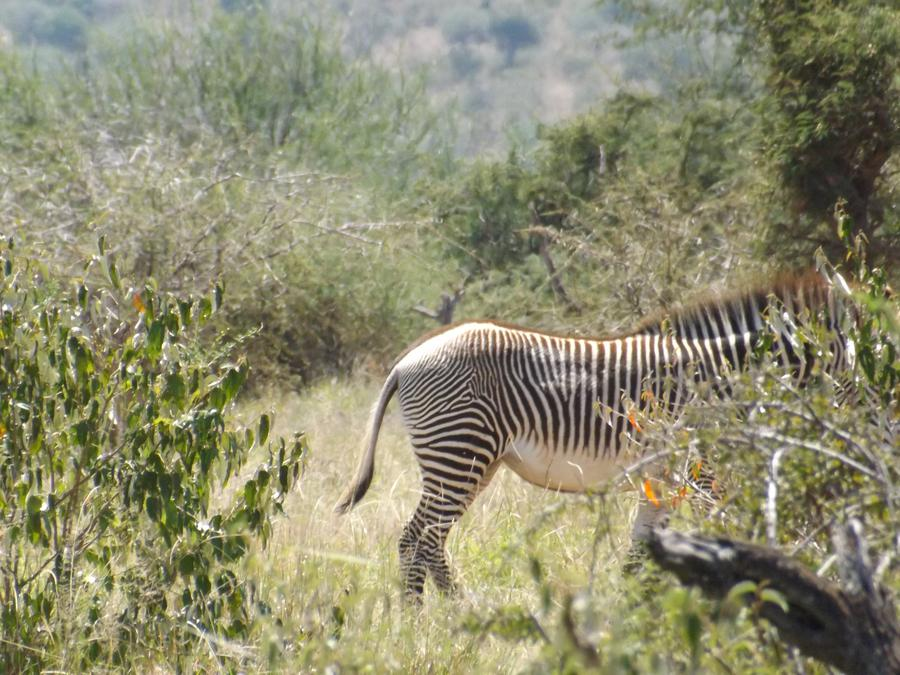zebra_grevys: (383, 301, 654, 467)
